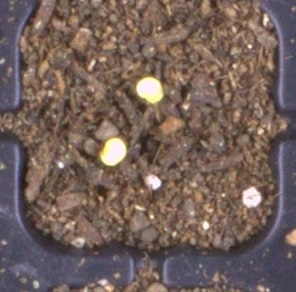chilli seed: (99, 137, 127, 166), (135, 76, 163, 103)
